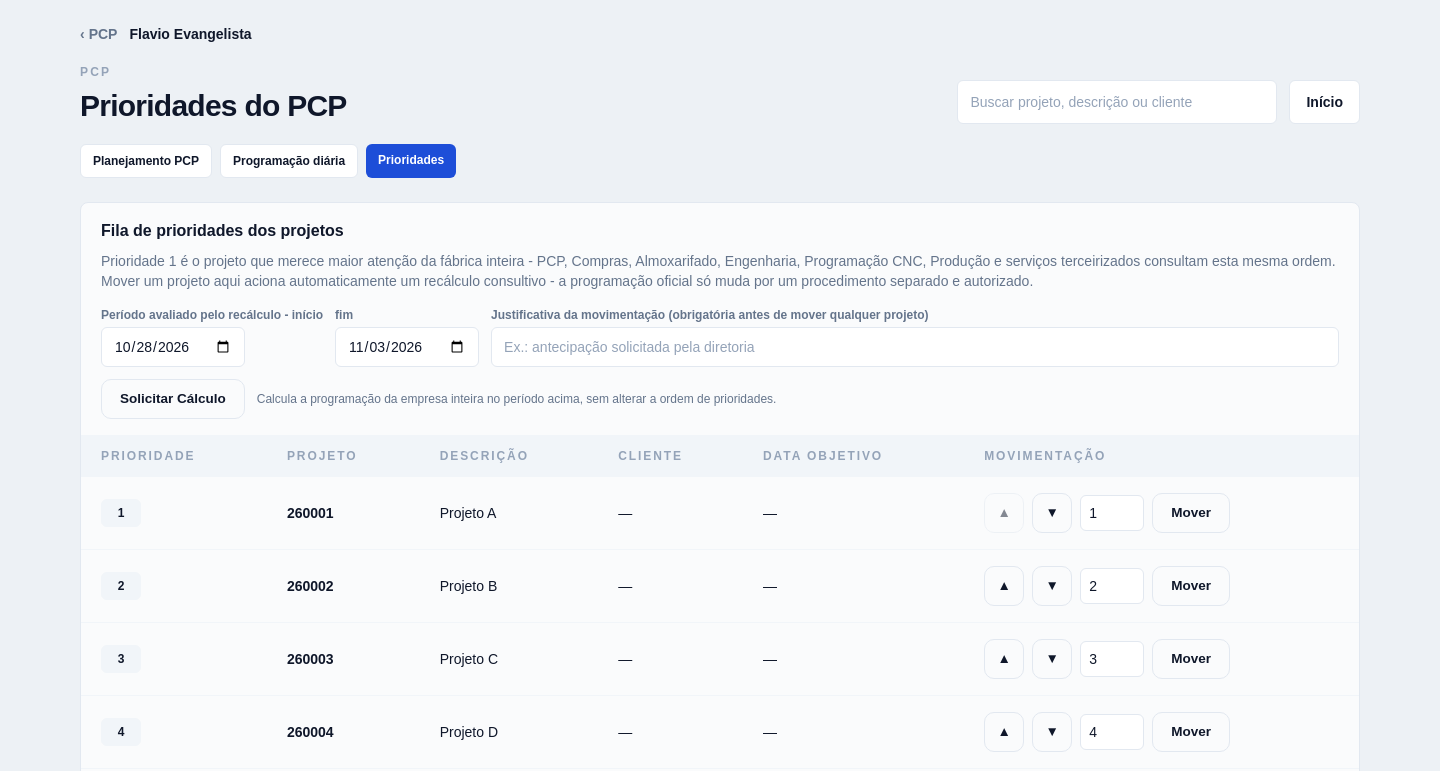
PrioridadesPcpPage - Solicitar Cálculo (I6H) › estado desconhecido após falha: NUNCA presume sucesso nem falha confirmada, avisa bloqueio até recuperação
The width and height of the screenshot is (1440, 771).
Click the button "Solicitar Cálculo": coordinates (173, 399) [101,379,245,419]
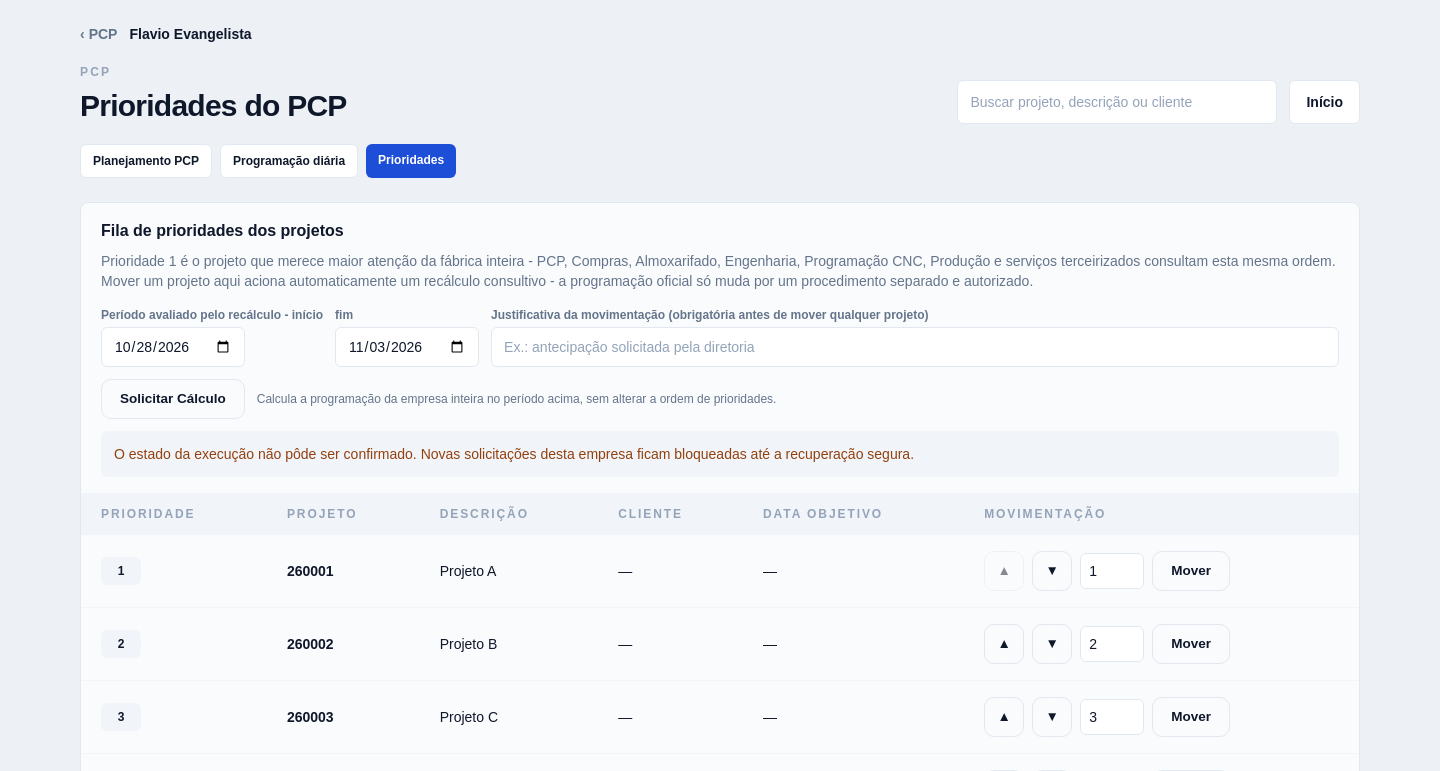
Expected: the text "estado da execução não pôde ser confirmado" is shown, [114,446,914,462]
